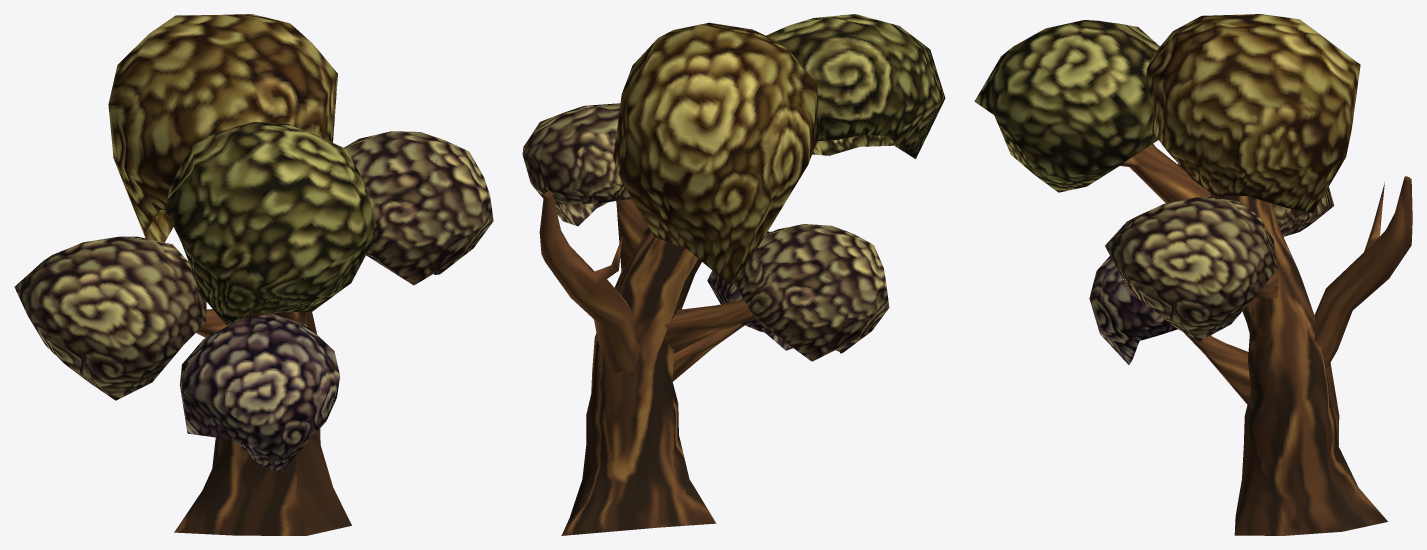
File: Ntree_2_1.fbx
3 renders of one model, left to right at view 1: azimuth 30°, elevation 25°; view 2: azimuth 150°, elevation 25°; view 3: azimuth 270°, elevation 25°, orthographic. The views are drawn at different scales.
Visible parts, largest first — view 1: Ntree_2_1; view 2: Ntree_2_1; view 3: Ntree_2_1.
Boxes of the visible parts, left/top/right/bottom form: Ntree_2_1: left=14, top=14, right=493, bottom=535; Ntree_2_1: left=522, top=14, right=945, bottom=535; Ntree_2_1: left=974, top=14, right=1412, bottom=535.
Size of the model in its own units: 189 by 228 by 195.
